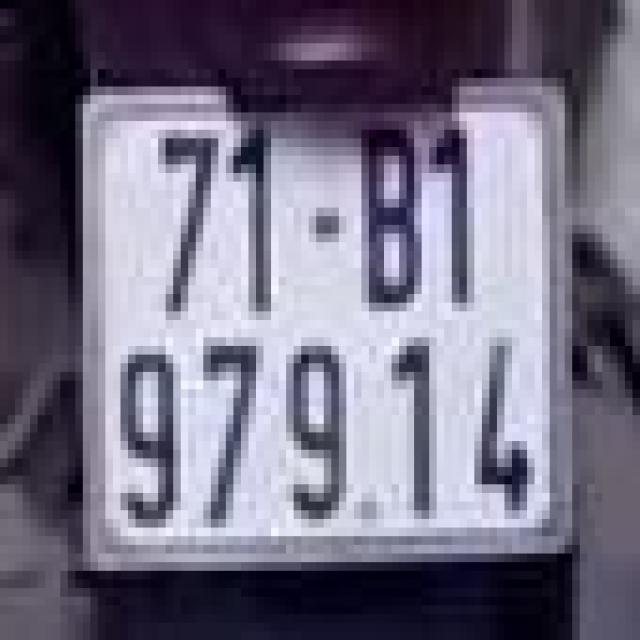1: (376, 320, 452, 536), (433, 112, 501, 312), (230, 116, 282, 342)
4: (463, 329, 531, 510)
7: (192, 338, 267, 536), (154, 121, 222, 320)
9: (282, 328, 358, 528), (116, 333, 184, 532)
B: (354, 104, 429, 311)
